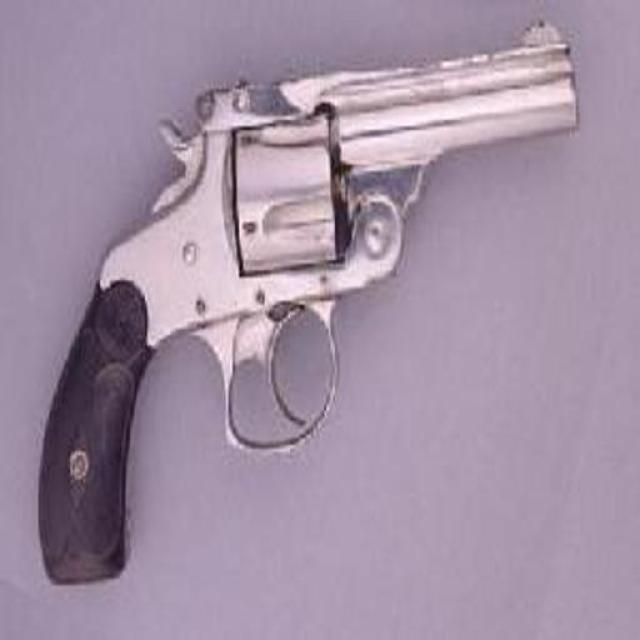pistol: (27, 2, 580, 595)
